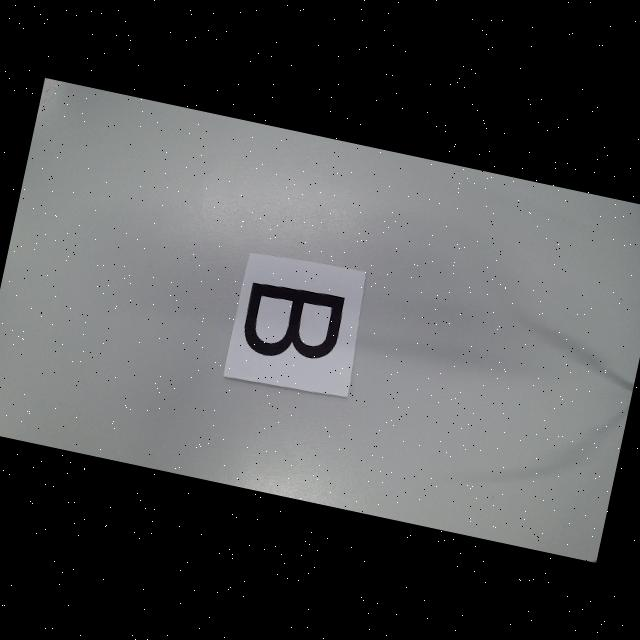FAKE: (238, 277, 346, 369)
